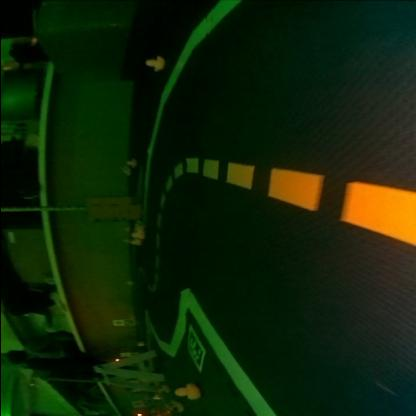Duckie: (174, 383, 198, 399), (144, 58, 163, 71), (129, 231, 143, 239)
QR code: (184, 327, 203, 374)
